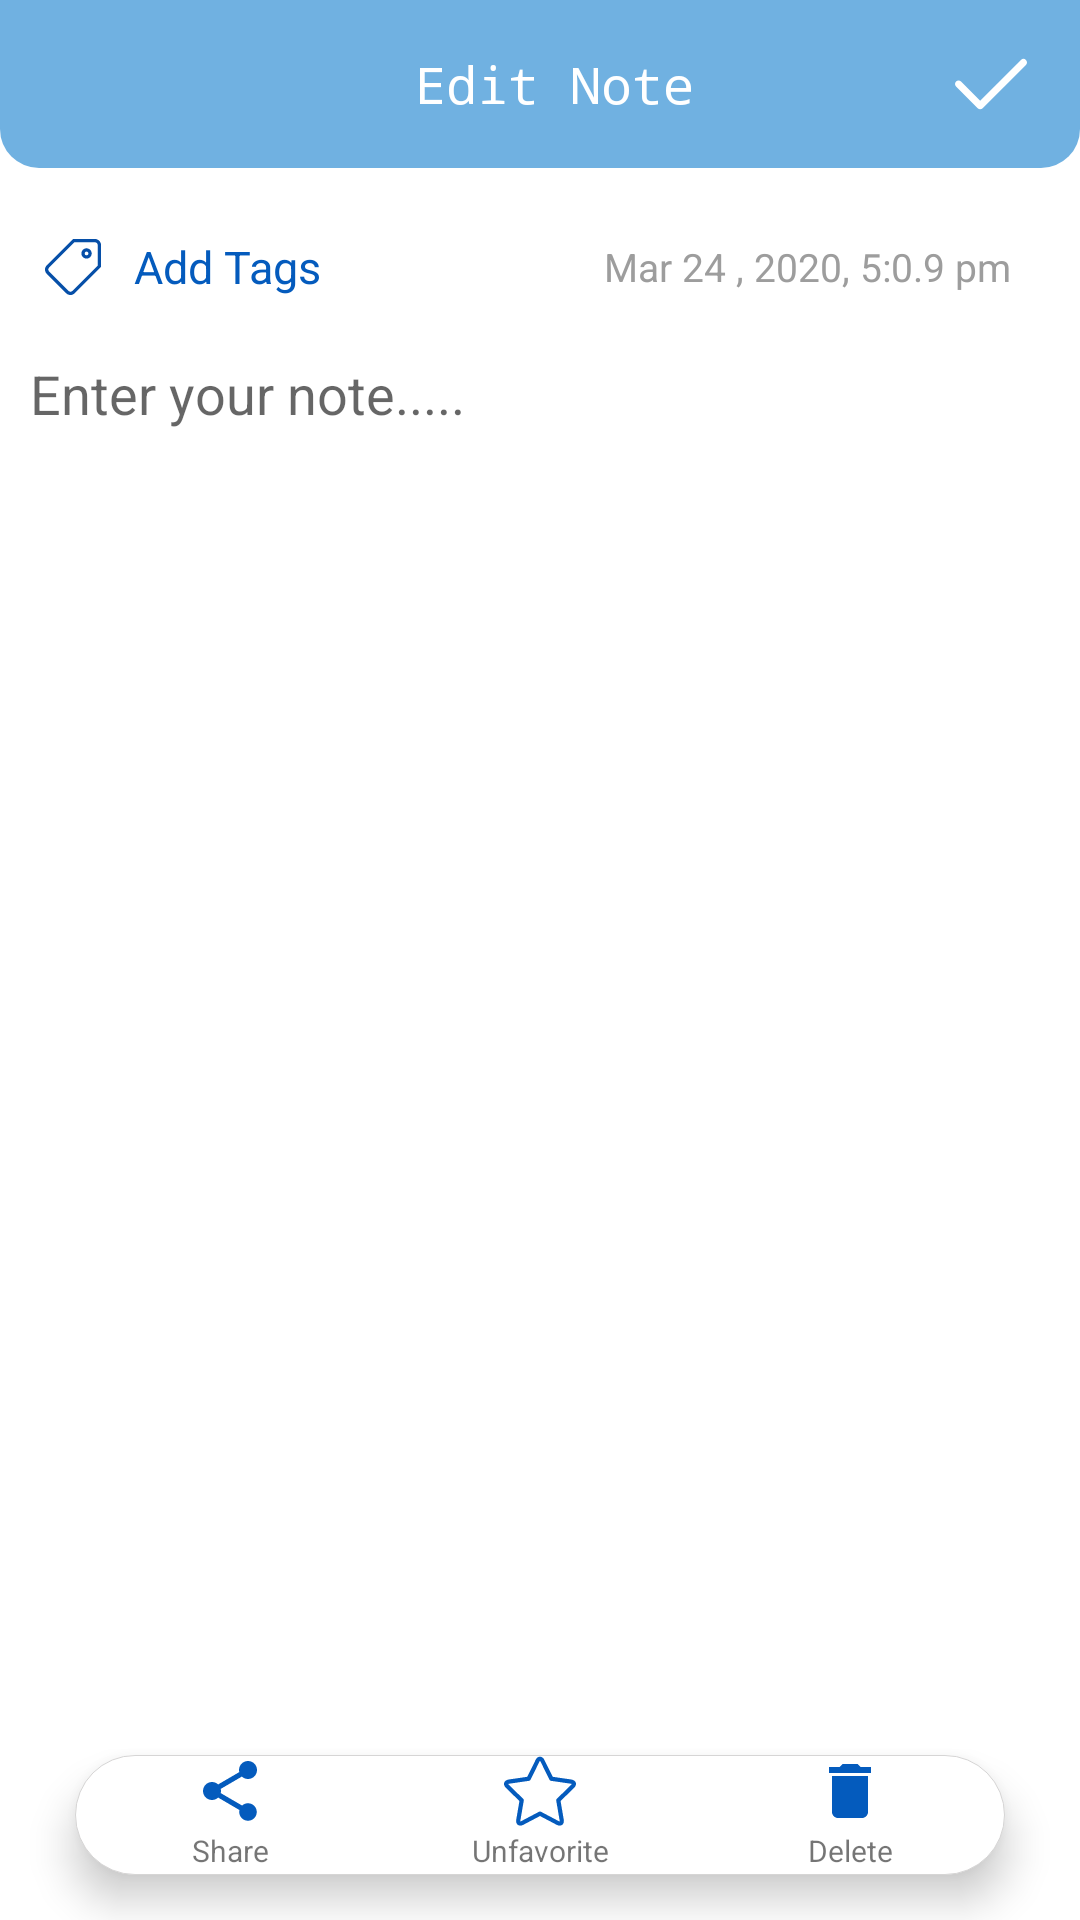

Locate icon controls on the screen. Image size 1080 x 1920, boxes as (x1, y1, x2, y2).
check: (955, 58, 1027, 110)
tag: (45, 239, 101, 295)
